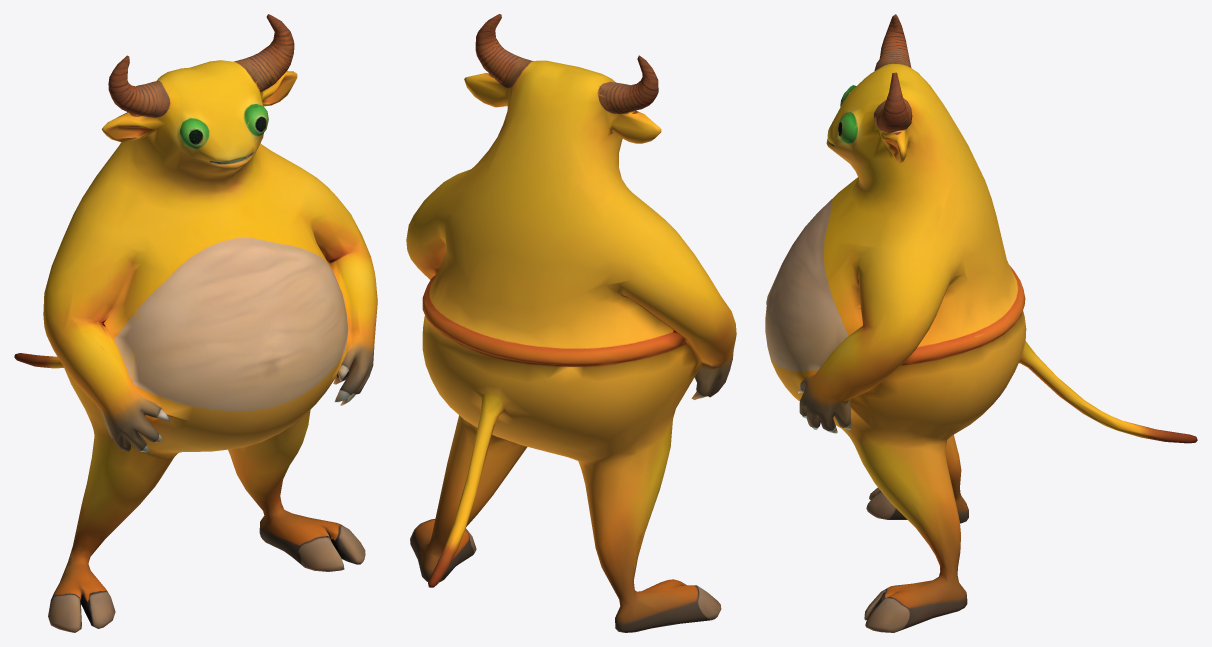
The picture shows the model from 3 angles, left to right: view 1: azimuth 30°, elevation 25°; view 2: azimuth 150°, elevation 25°; view 3: azimuth 270°, elevation 25°; orthographic projection. The views are drawn at different scales.
Parts seen in each view (by area): view 1: tripo_node_d92c03c1; view 2: tripo_node_d92c03c1; view 3: tripo_node_d92c03c1.
Part boxes in pixels (bbox=[...]): tripo_node_d92c03c1: bbox=[14, 14, 377, 632]; tripo_node_d92c03c1: bbox=[406, 14, 736, 632]; tripo_node_d92c03c1: bbox=[765, 14, 1197, 632].
Bounding box in the file's own units: 0.5877 × 0.9996 × 0.7491.
Materials: 1 (1 with a texture image).
